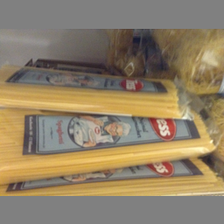pasta: (2, 108, 216, 184), (1, 63, 189, 121)
